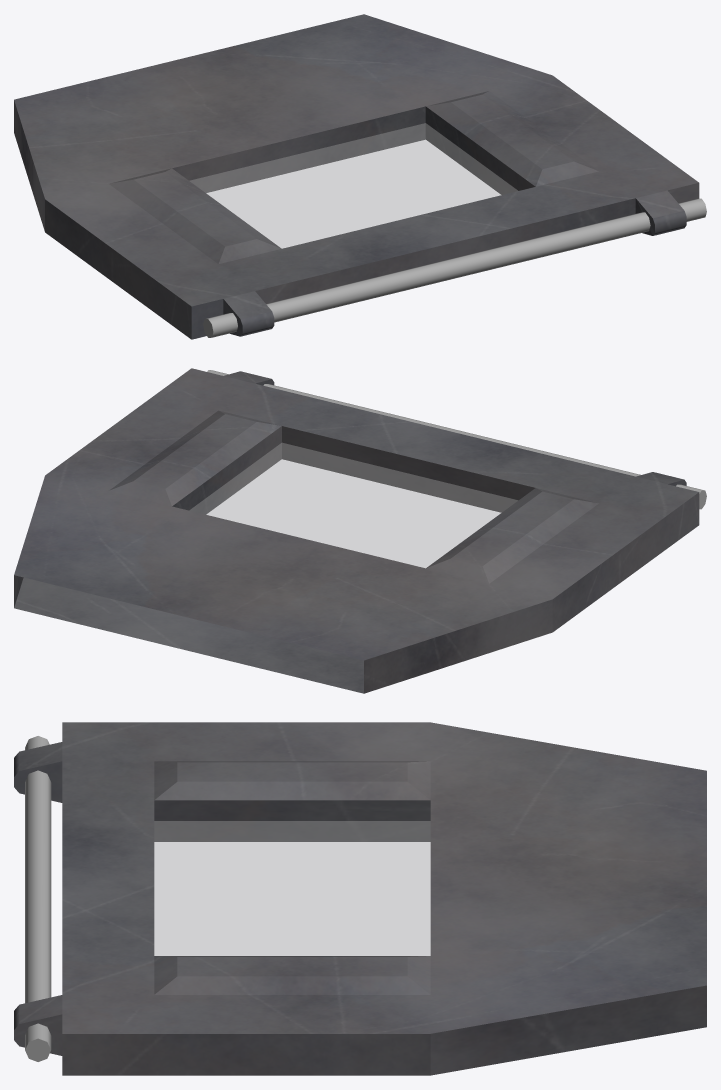
The model's file is HeistPlatform01_2.fbx.
3 renders of one model, top to bottom at view 1: azimuth 30°, elevation 25°; view 2: azimuth 150°, elevation 25°; view 3: azimuth 270°, elevation 25°, orthographic. The views are drawn at different scales.
Parts seen in each view (by area): view 1: HeistPlatform01; view 2: HeistPlatform01; view 3: HeistPlatform01.
Boxes of the visible parts, bbox=[...] form: HeistPlatform01: bbox=[14, 14, 706, 339]; HeistPlatform01: bbox=[14, 368, 706, 693]; HeistPlatform01: bbox=[14, 722, 706, 1075].
Size of the model in its own units: 8 by 0.7103 by 7.52.
Materials: 3 (1 with a texture image).
